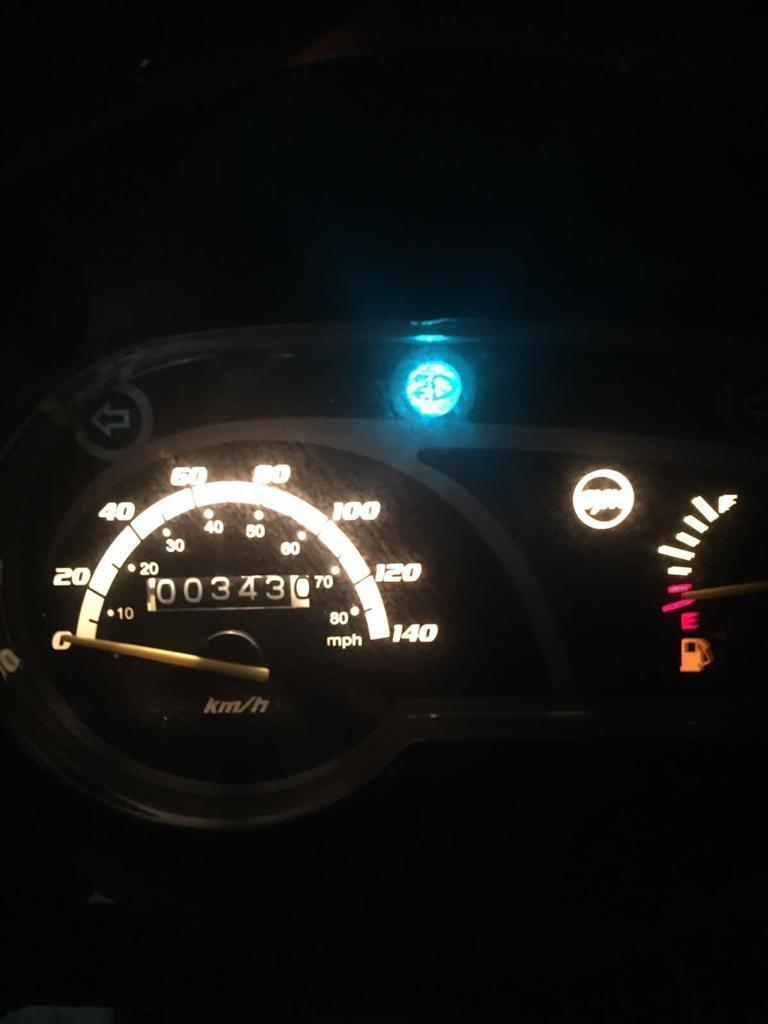0: (180, 575, 203, 604), (154, 577, 176, 605), (291, 574, 310, 601)
3: (208, 574, 232, 602), (262, 575, 285, 601)
4: (235, 575, 257, 602)
odometer: (141, 570, 314, 614)
